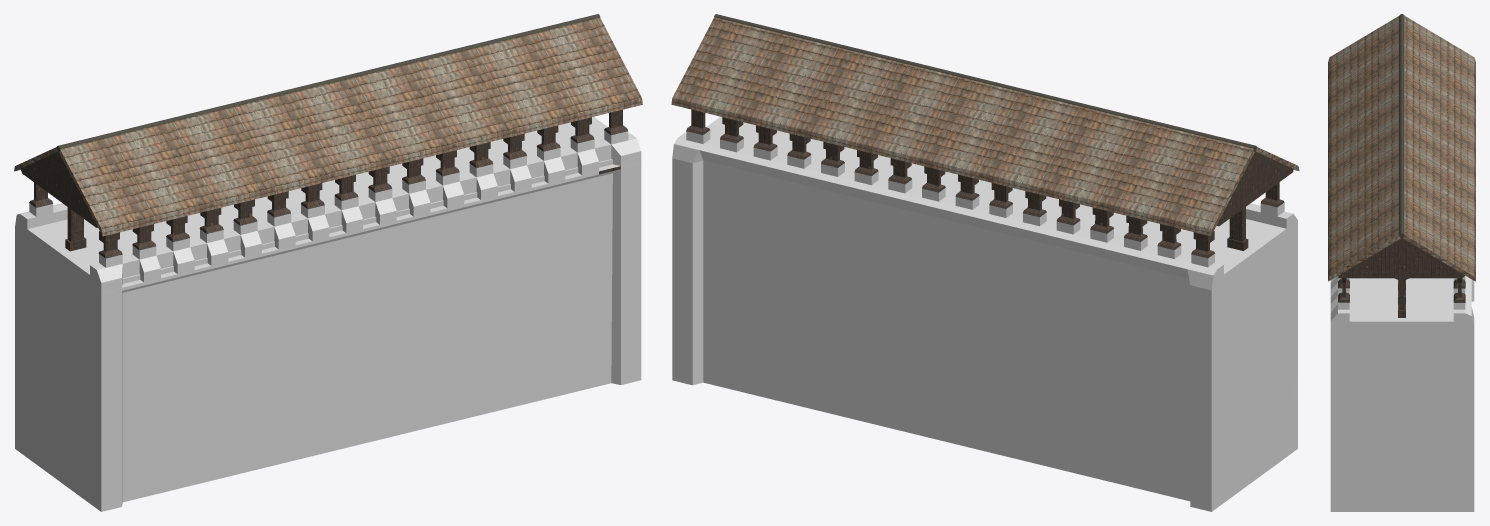
The model's file is CastleWallsRoof-4.fbx.
3 renders of one model, left to right at view 1: azimuth 30°, elevation 25°; view 2: azimuth 150°, elevation 25°; view 3: azimuth 270°, elevation 25°, orthographic. The views are drawn at different scales.
Parts seen in each view (by area): view 1: HradbyTypE.006; view 2: HradbyTypE.006; view 3: HradbyTypE.006.
Part boxes in pixels (x1,y1,x2,y2): HradbyTypE.006: (14, 14, 642, 511); HradbyTypE.006: (671, 14, 1299, 511); HradbyTypE.006: (1328, 14, 1475, 511).
Bounding box in the file's own units: 3875 × 2293 × 1103.
